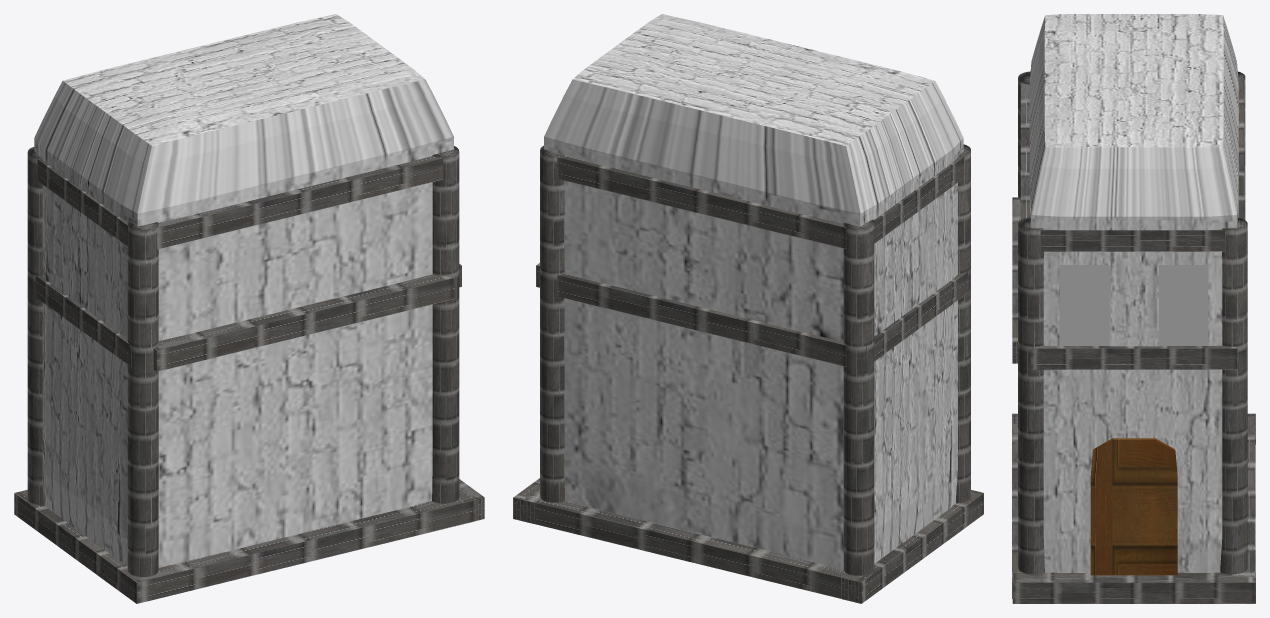
File: city house5.fbx
3 renders of one model, left to right at view 1: azimuth 30°, elevation 25°; view 2: azimuth 150°, elevation 25°; view 3: azimuth 270°, elevation 25°, orthographic.
Visible parts, largest first — view 1: Cube, Cylinder.003, Cube.003, Cube.008, Cylinder.002, Cube.013, Cylinder.004, Cube.004, Cube.014, Cube.010; view 2: Cube, Cylinder.004, Cube.009, Cylinder.001, Cube.002, Cube.012, Cylinder.003, Cube.004, Cube.014, Cube.010, Cube.001; view 3: Cube, Cube.007, Cylinder.002, Cylinder.001, Cube.001, Cube.005, Cube.006, Plane, Plane.001, Cube.009, Cube.013, Cube.008 (+4 smaller).
Part boxes in pixels (x1,y1,x2,y2): Cube: (34, 14, 453, 567); Cylinder.003: (127, 221, 158, 576); Cube.003: (134, 499, 474, 603); Cube.008: (153, 274, 454, 371); Cylinder.002: (432, 146, 459, 503); Cube.013: (157, 156, 443, 249); Cylinder.004: (27, 147, 43, 505); Cube.004: (14, 489, 143, 603); Cube.014: (35, 276, 131, 367); Cube.010: (37, 159, 127, 246); Cube: (544, 14, 963, 568); Cylinder.004: (843, 219, 874, 575); Cube.009: (524, 491, 872, 598); Cylinder.001: (540, 145, 564, 502); Cube.002: (557, 156, 846, 249); Cube.012: (557, 273, 846, 366); Cylinder.003: (956, 144, 970, 503); Cube.004: (841, 490, 983, 603); Cube.014: (866, 270, 970, 367); Cube.010: (873, 157, 964, 243); Cube.001: (513, 478, 539, 523); Cube: (1029, 14, 1238, 572); Cube.007: (1090, 438, 1177, 575); Cylinder.002: (1018, 217, 1044, 574); Cylinder.001: (1220, 217, 1247, 574); Cube.001: (1012, 572, 1255, 603); Cube.005: (1030, 345, 1237, 369); Cube.006: (1040, 229, 1224, 251); Plane: (1060, 265, 1109, 345); Plane.001: (1159, 265, 1208, 345); Cube.009: (1232, 413, 1255, 577); Cube.013: (1020, 82, 1030, 219); Cube.008: (1012, 197, 1020, 363).
Size of the model in its own units: 1479 by 1791 by 901.
